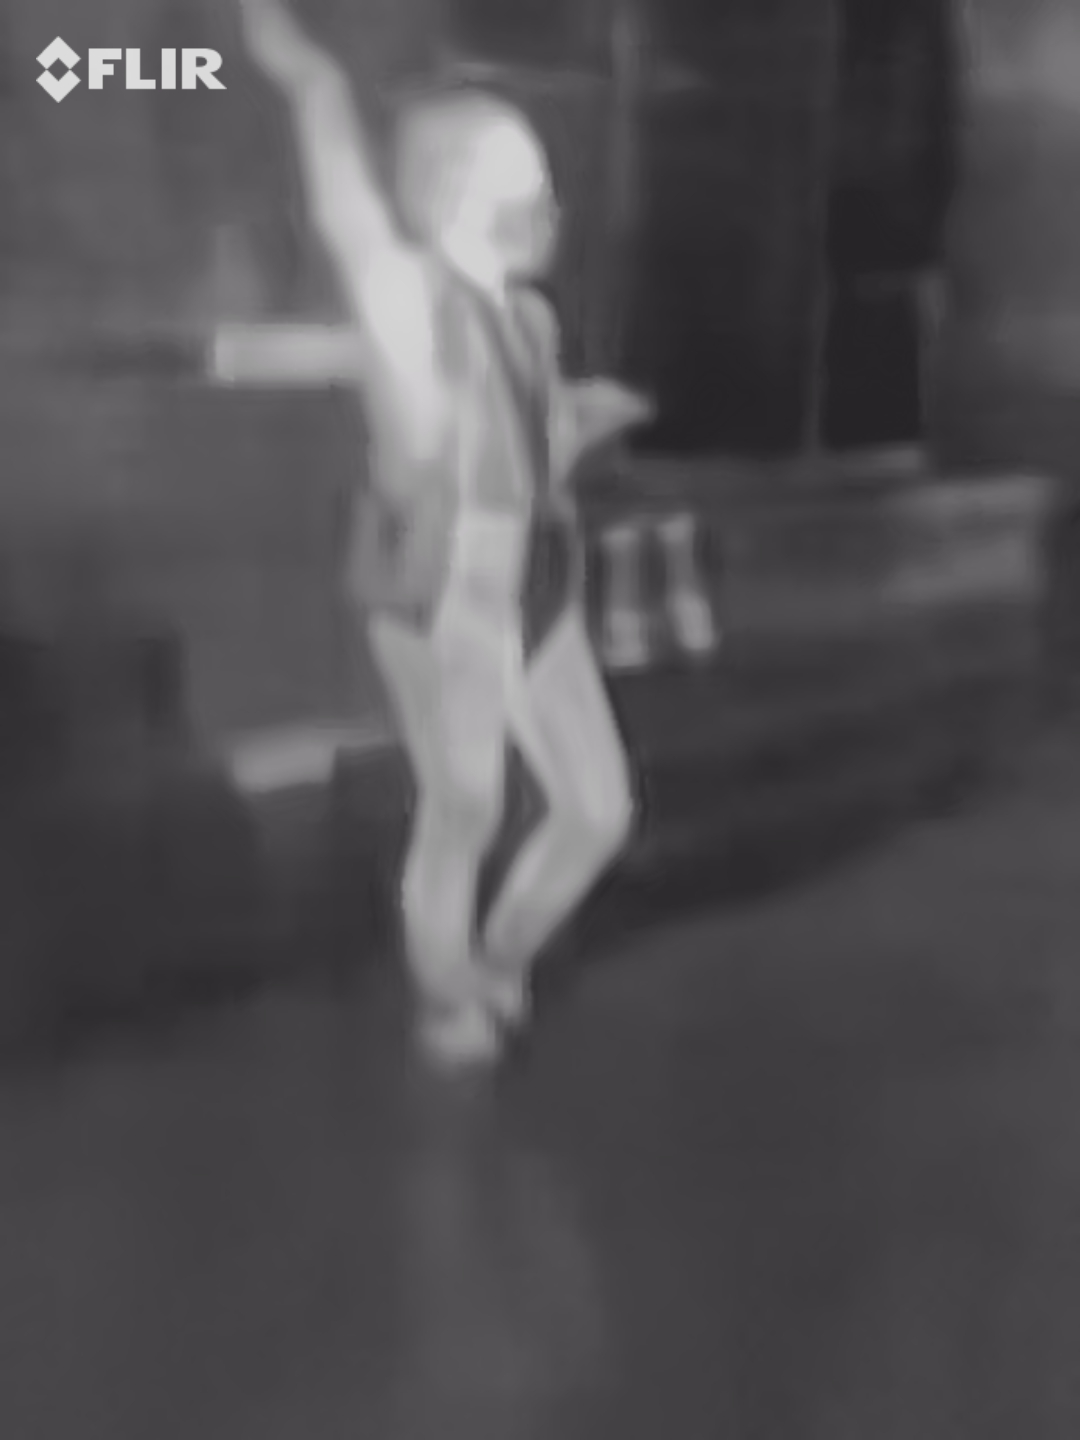head: (409, 95, 566, 287)
